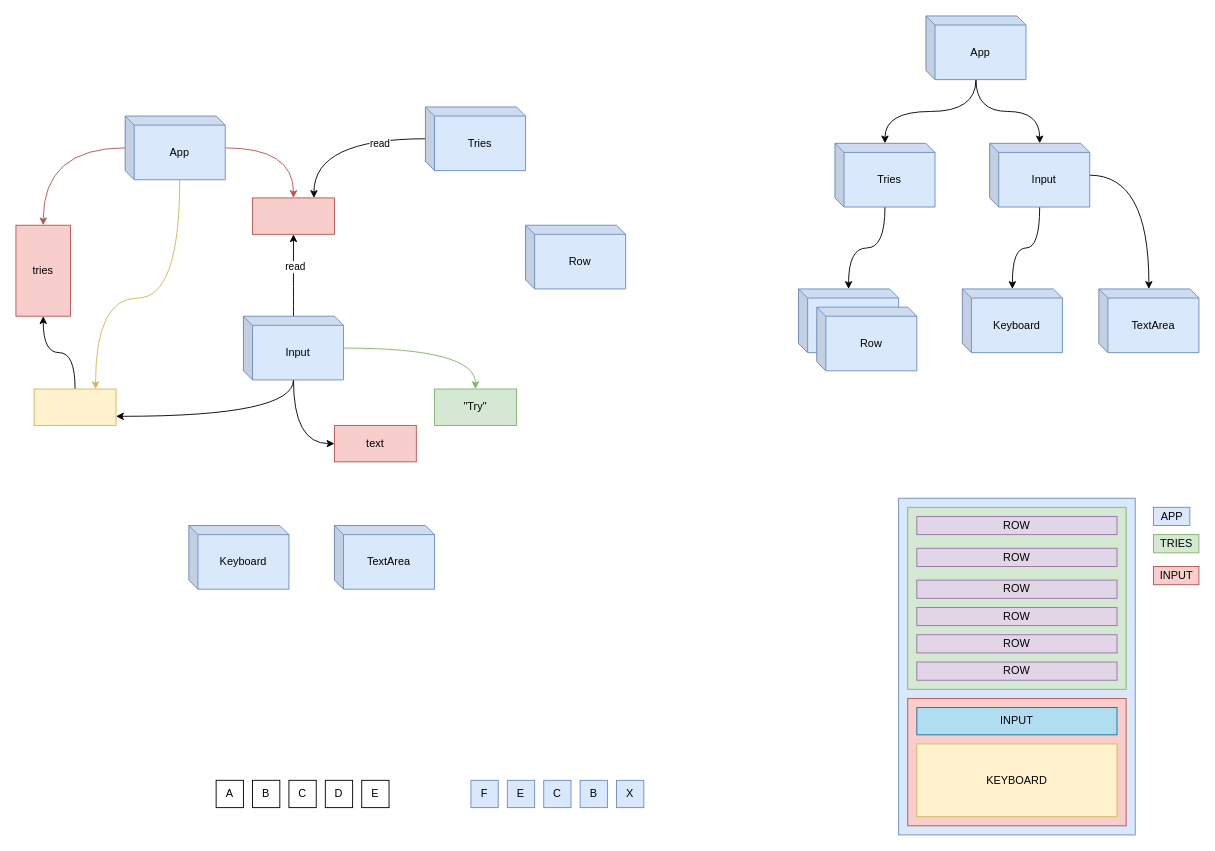
This 1215x851 diagram has some shape labels left out. Each missing label, with the centre of its shape:
addTry(): point (74, 406)
word: point (293, 215)
